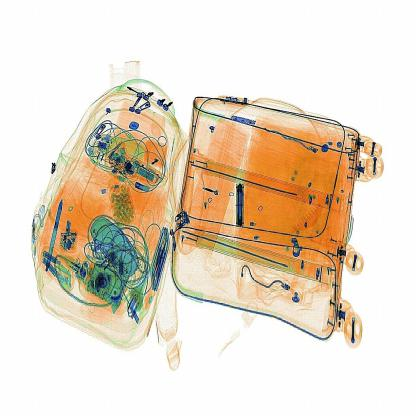scissors: (232, 180, 248, 228)
